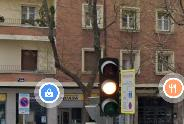yellow_light: (99, 57, 121, 117)
